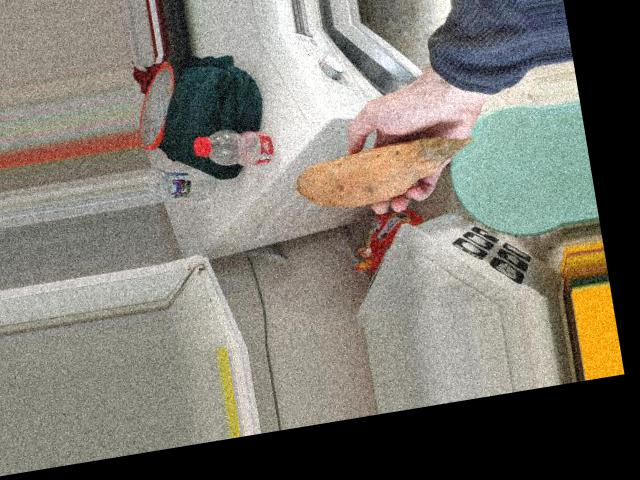sweet_potato: (308, 133, 467, 215)
